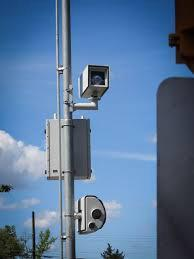Speed-Camera: (74, 53, 115, 239)
